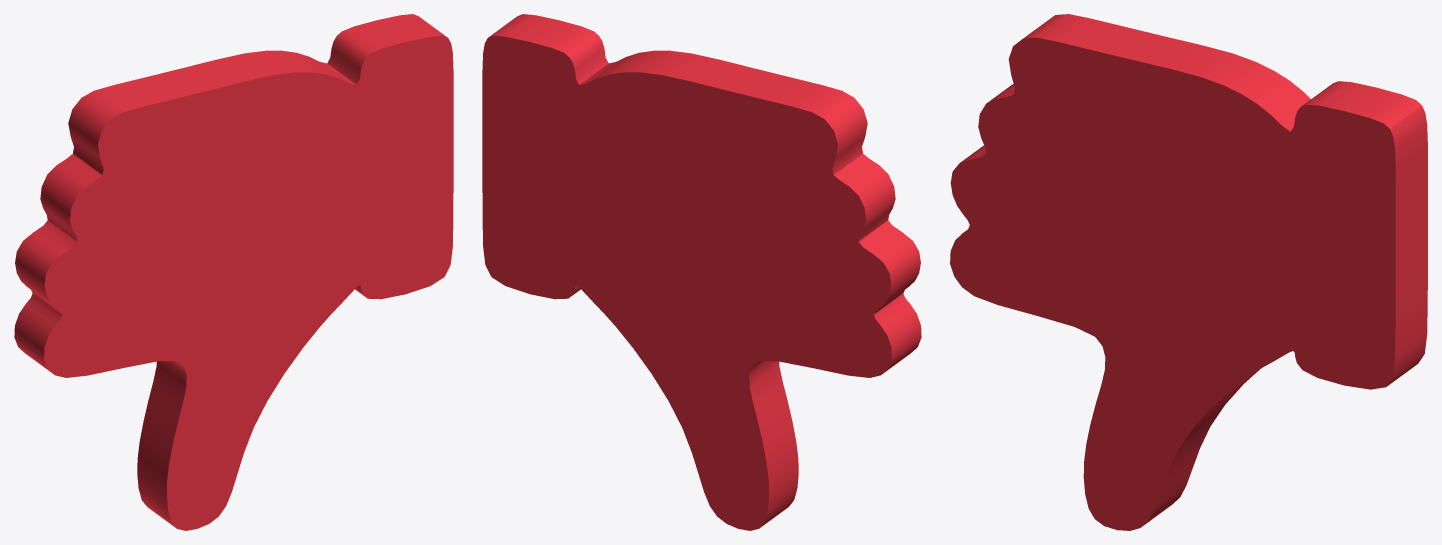
Rendered from DissLike.fbx.
3 renders of one model, left to right at view 1: azimuth 30°, elevation 25°; view 2: azimuth 150°, elevation 25°; view 3: azimuth 330°, elevation 25°, orthographic. The views are drawn at different scales.
Parts seen in each view (by area): view 1: DissLike; view 2: DissLike; view 3: DissLike.
Boxes of the visible parts, box(x1,y1,x2,y2) form: DissLike: box(14, 14, 453, 530); DissLike: box(482, 14, 921, 530); DissLike: box(950, 14, 1427, 530).
Size of the model in its own units: 66.88 by 68.04 by 8.36.
